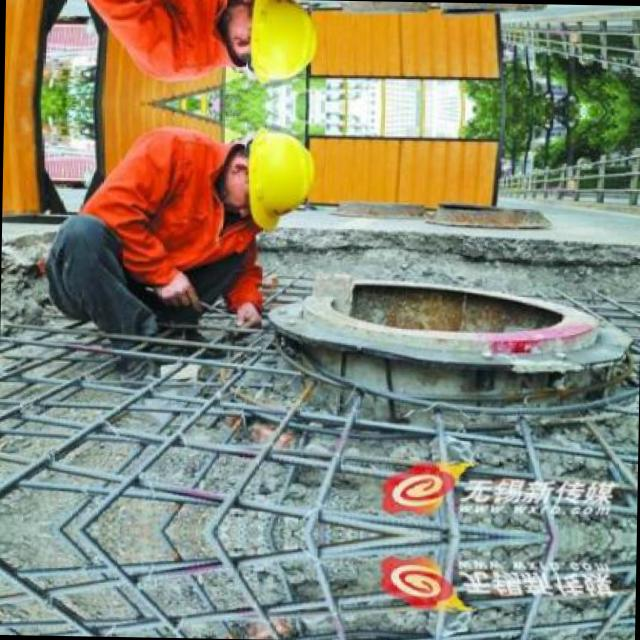helmet: (222, 127, 321, 227), (224, 0, 324, 85)
